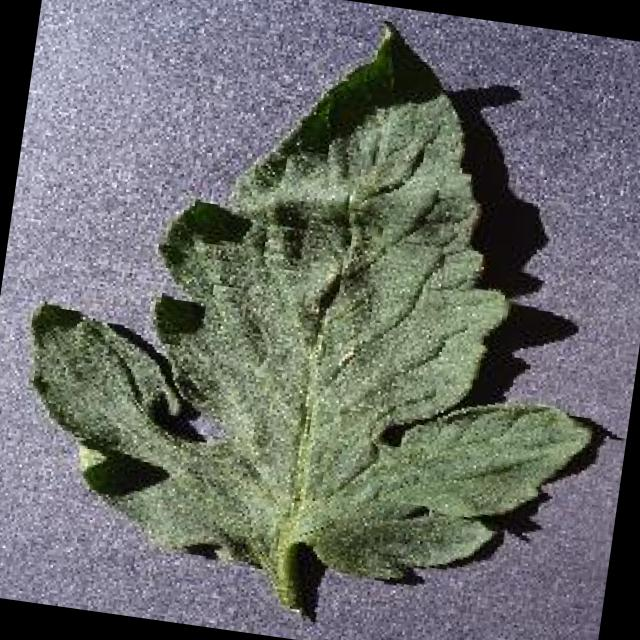Tomato_Healthy: (92, 4, 636, 628)
